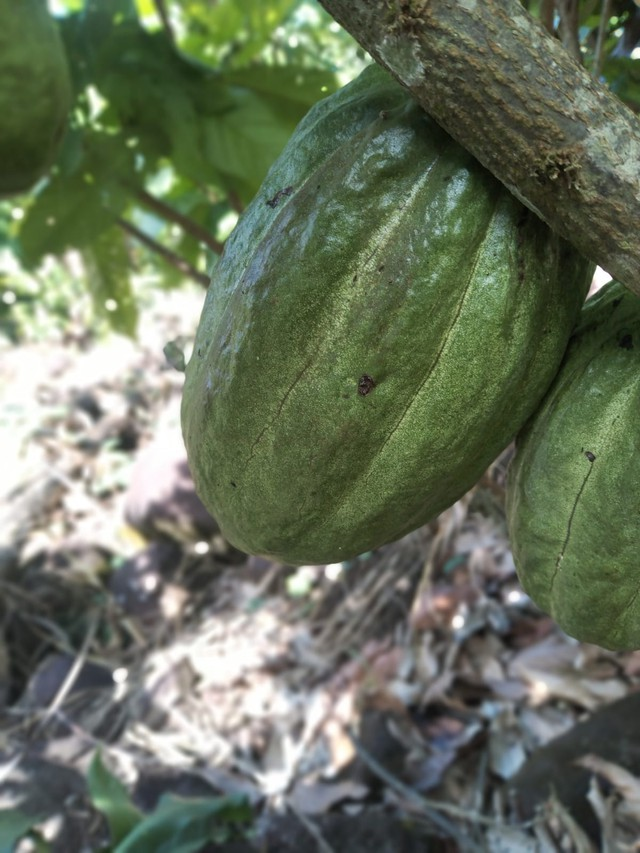Health: (155, 39, 603, 580)
